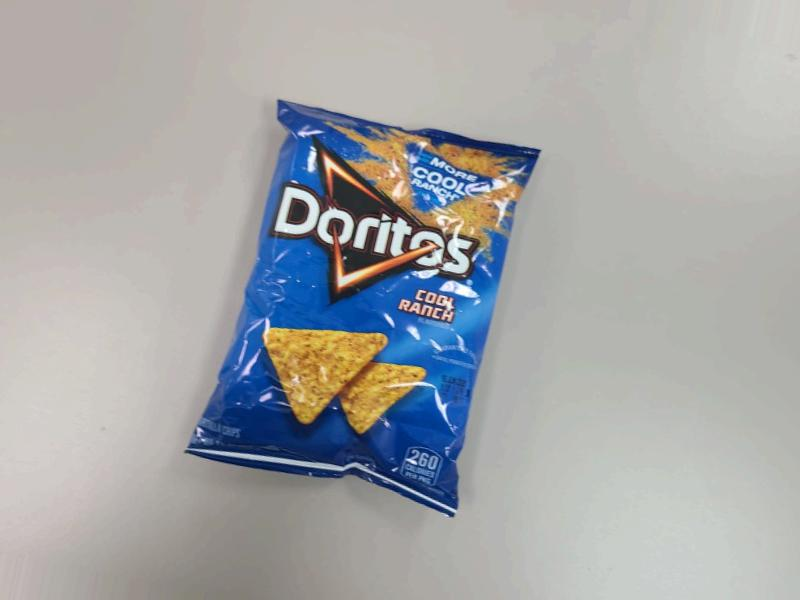doritos: (181, 79, 537, 524)
